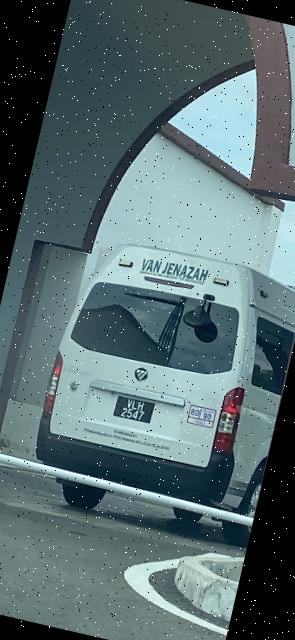License_Plate: (112, 390, 161, 427)
van: (7, 224, 295, 549)
